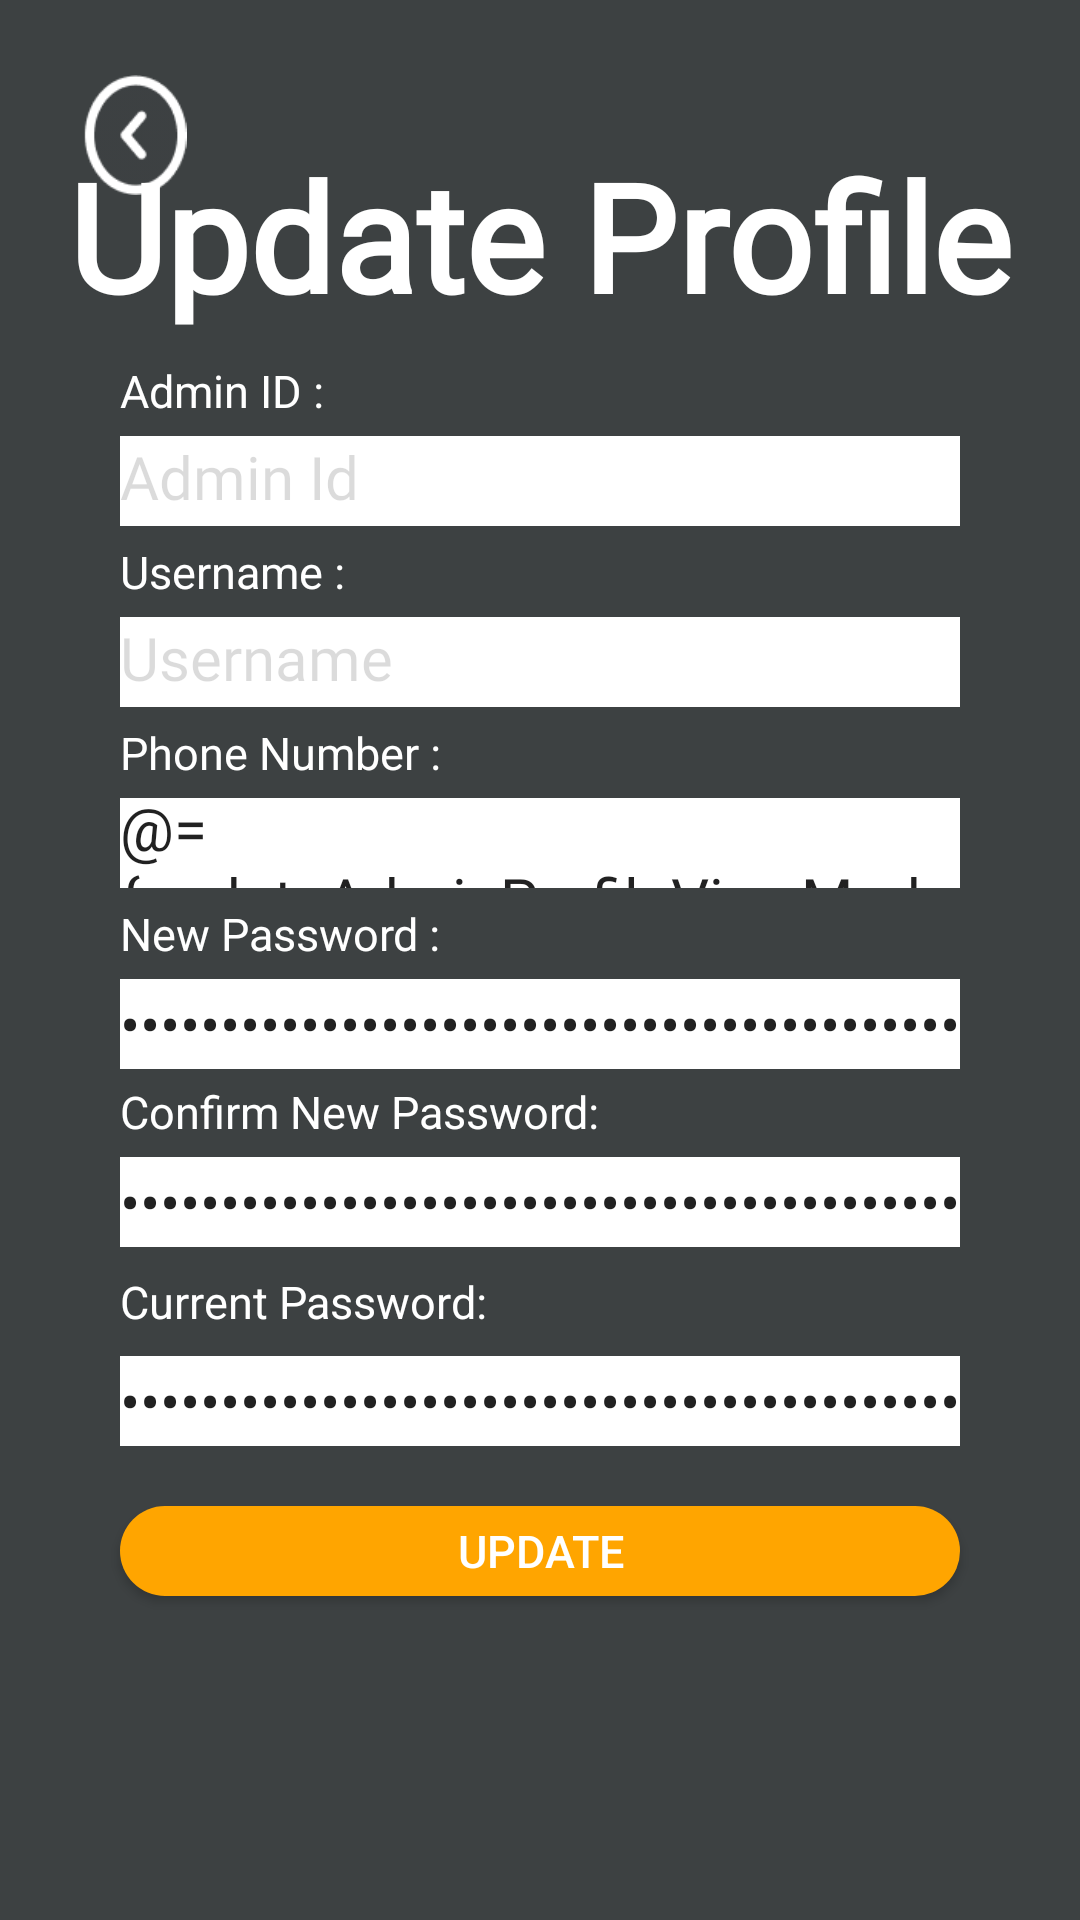

Screen size 1080w x 1920h. Icon name, then its box in pixels as (x1, y1, x2, y2):
back: (78, 75, 187, 195)
